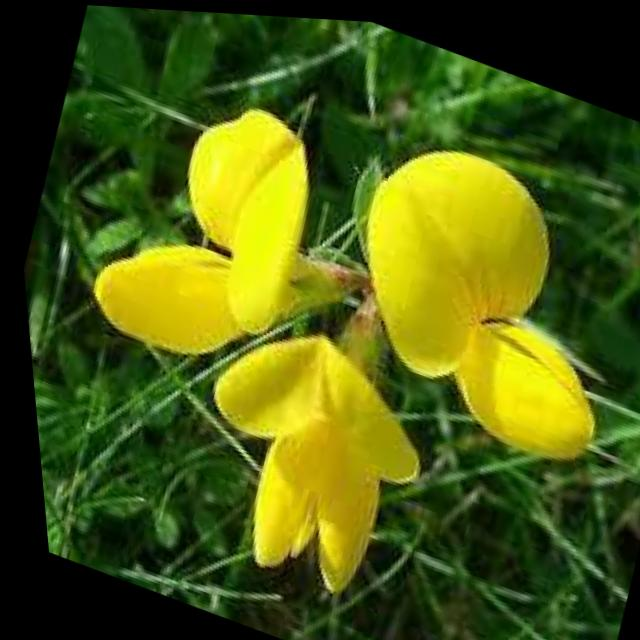Flower: (287, 111, 640, 485), (175, 256, 465, 617), (50, 165, 391, 416), (137, 75, 409, 346)
